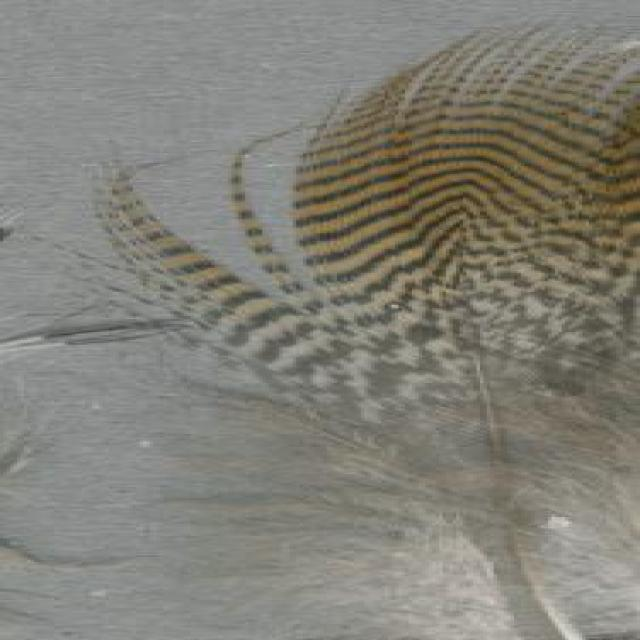feather: (58, 19, 640, 639)
